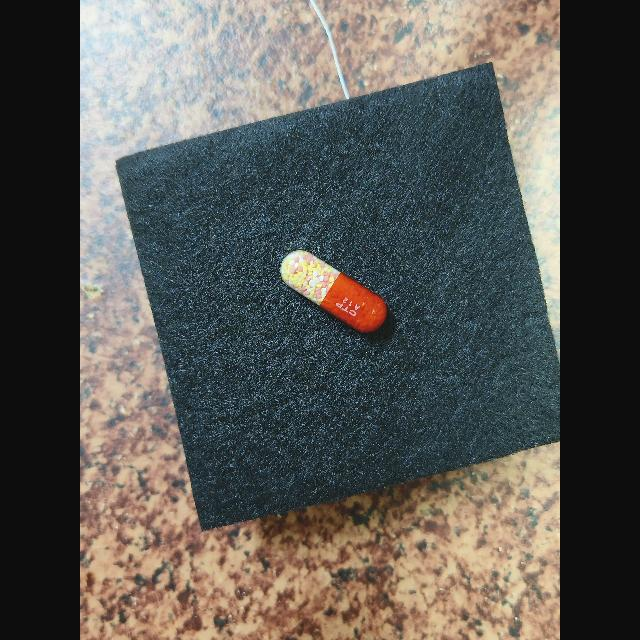Intact Capsule: (280, 250, 387, 333)
